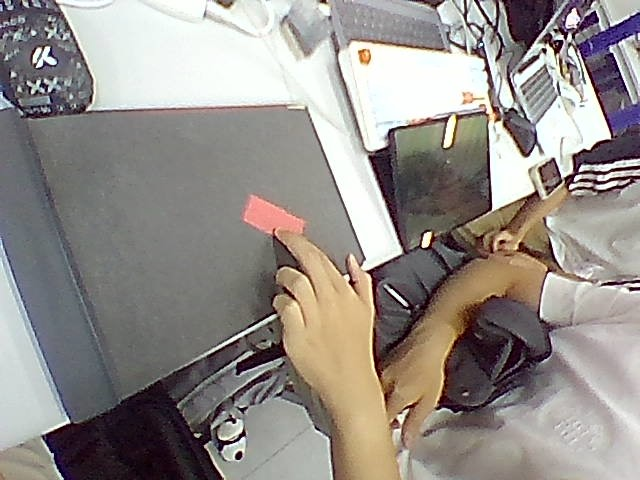card: (243, 195, 303, 233)
